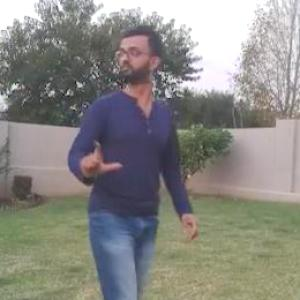land_hand: (77, 140, 125, 188)
